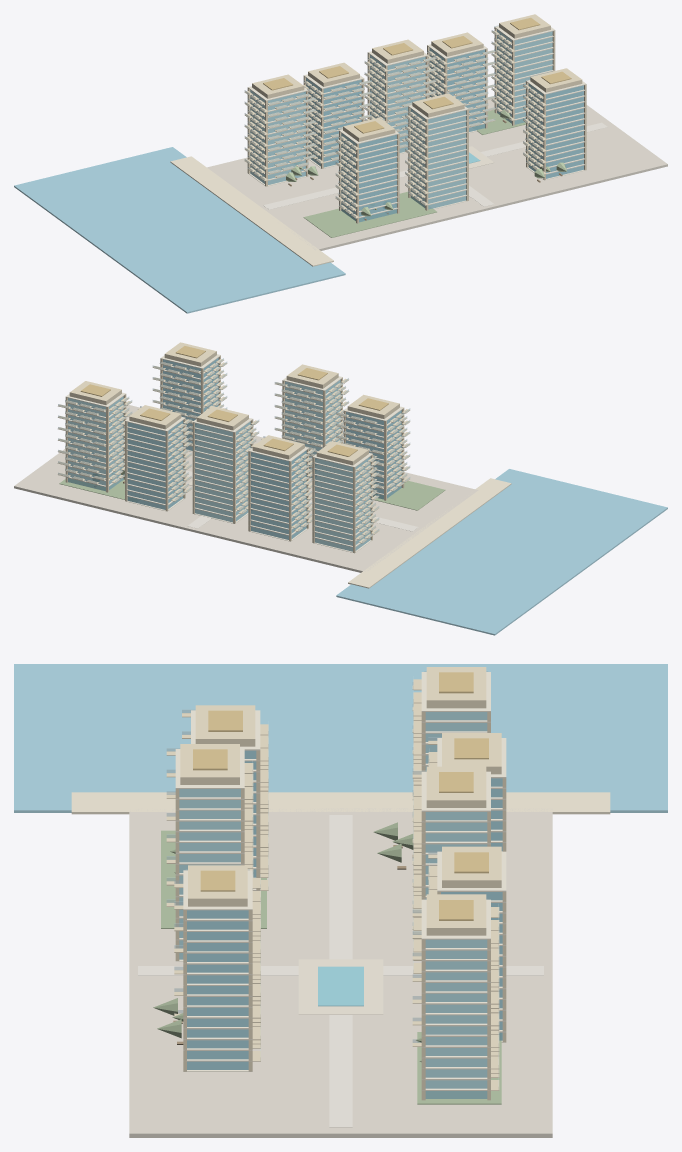
Rendered from damac-riverside-views.glb.
3 renders of one model, top to bottom at view 1: azimuth 30°, elevation 25°; view 2: azimuth 150°, elevation 25°; view 3: azimuth 270°, elevation 25°, orthographic. The views are drawn at different scales.
Parts seen in each view (by area): view 1: sea, site, b6glass, b7glass, beach, b5glass, b0glass, b4glass, green1, b2glass, b1glass, b3glass (+10 smaller); view 2: sea, site, b2glass, b0glass, b3glass, b1glass, beach, b4glass, b6glass, b7glass, b5glass, green1 (+9 smaller); view 3: site, sea, b7glass, b4glass, beach, pathx, b6glass, courtdeck, b2glass, pool, b0crown, b4crown (+55 smaller).
Part boxes in pixels (box(x1,y1,x2,y2)): sea: box(14, 147, 345, 313); site: box(207, 98, 667, 250); b6glass: box(410, 109, 466, 209); b7glass: box(528, 84, 583, 178); beach: box(170, 156, 333, 266); b5glass: box(341, 133, 396, 222); b0glass: box(250, 90, 305, 184); b4glass: box(497, 29, 552, 124); green1: box(303, 191, 436, 237); b2glass: box(370, 55, 425, 152); b1glass: box(306, 78, 361, 167); b3glass: box(429, 48, 485, 131); sea: box(336, 469, 667, 635); site: box(14, 405, 478, 572); b2glass: box(195, 421, 250, 522); b0glass: box(315, 456, 370, 551); b3glass: box(127, 420, 183, 509); b1glass: box(251, 450, 306, 539); beach: box(348, 478, 511, 588); b4glass: box(68, 396, 123, 491); b6glass: box(285, 380, 340, 477); b7glass: box(163, 358, 218, 450); b5glass: box(346, 410, 401, 499); green1: box(374, 480, 445, 510); site: box(129, 808, 552, 1137); sea: box(14, 664, 667, 812); b7glass: box(187, 910, 248, 1069); b4glass: box(425, 939, 487, 1098); beach: box(71, 792, 610, 814); pathx: box(329, 815, 352, 1127); b6glass: box(179, 789, 240, 959); courtdeck: box(298, 959, 383, 1014); b2glass: box(425, 812, 487, 899); pool: box(318, 966, 363, 1006); b0crown: box(426, 667, 486, 708); b4crown: box(426, 894, 486, 935).
Bounding box in the file's own units: 290 × 53.75 × 170.
